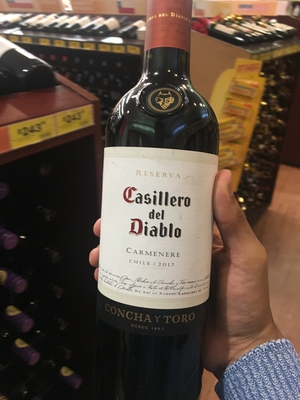casillero del diablo carmenere: (95, 6, 238, 400)
